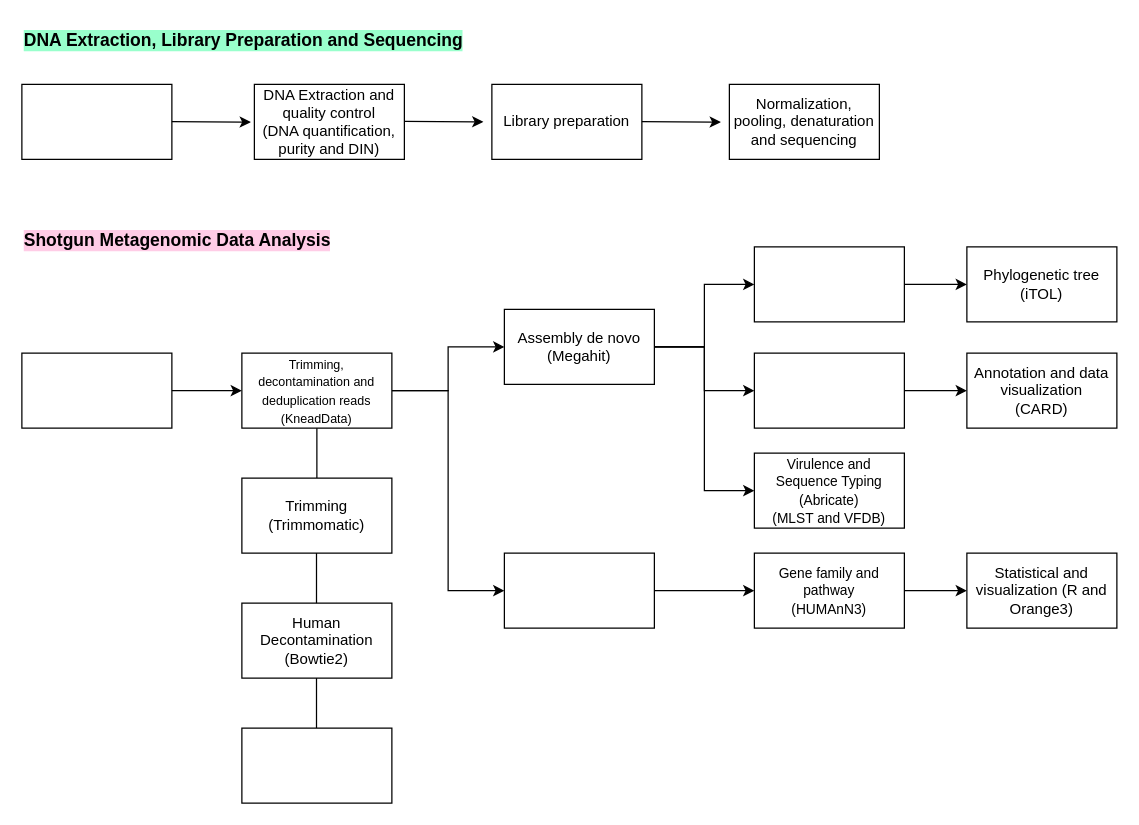
Image size: 1139x825. Some labels were removed from this diagram. Here are the shapes that lost their labels. From the top down, the centre of each, then its label:
(x=96, y=121): Fecal sample collections
(x=828, y=284): Alignment file contig (MAFFT)
(x=96, y=390): Quality Control (FastQC)
(x=828, y=390): Antimicrobial identification (ResFinder)
(x=578, y=590): Taxonomy analysis (MetaPhlan4 and Kraken2)
(x=316, y=765): Remove duplication (TRF)
